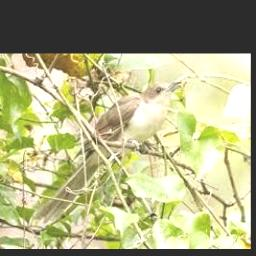Cuckoo: (32, 80, 181, 225)
